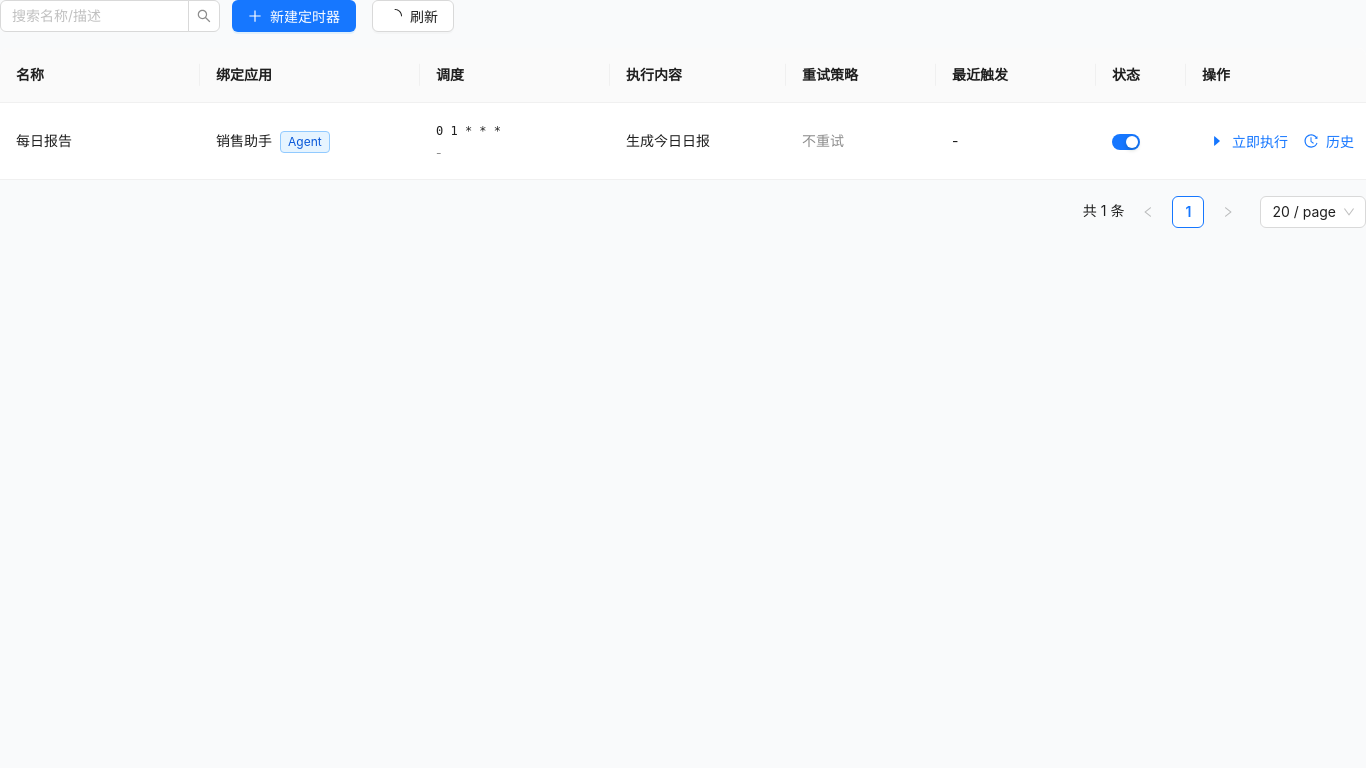
Test: TeamTimers › 立即执行触发后打开历史抽屉（默认加载 10 条）
Click the button "立即执行": (1249,141) [1202,129,1296,153]
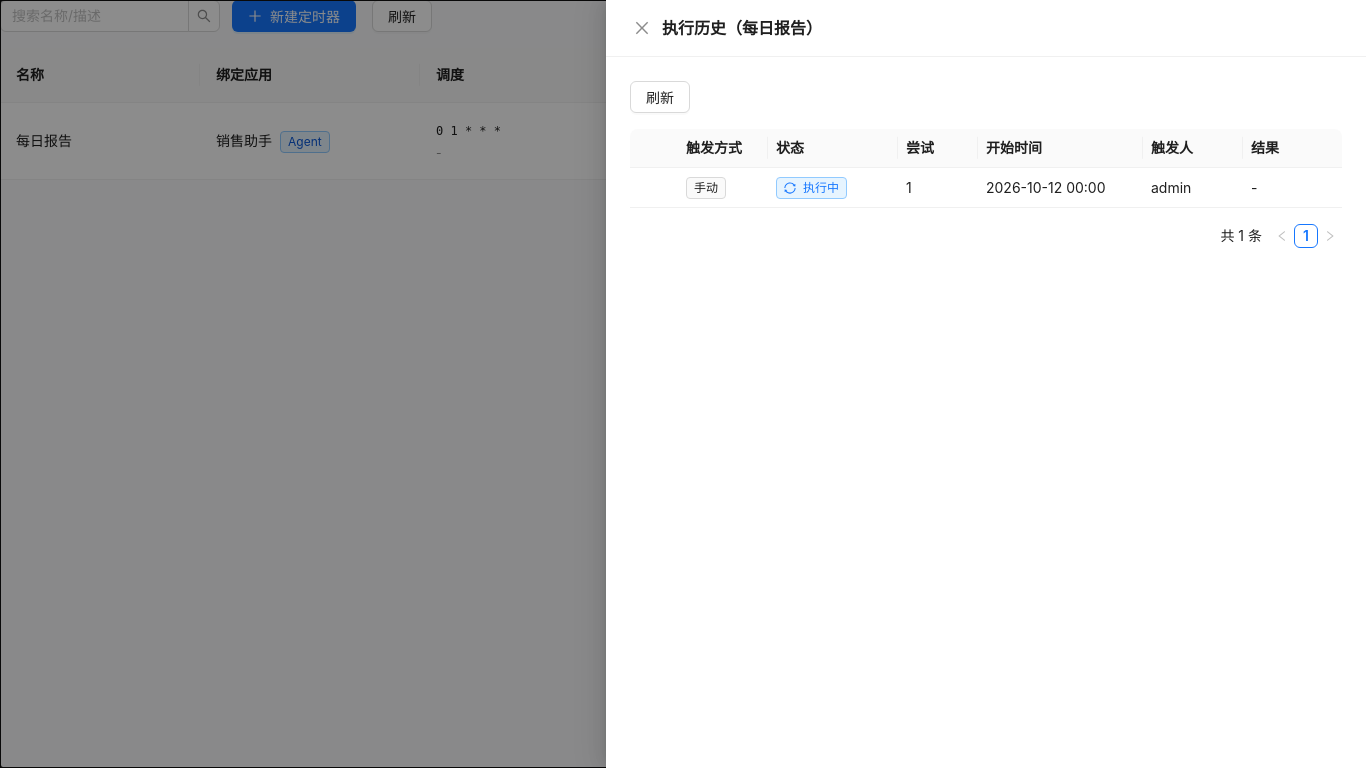
Check: the text "执行历史（每日报告）" is shown, box [662,18,822,38]
